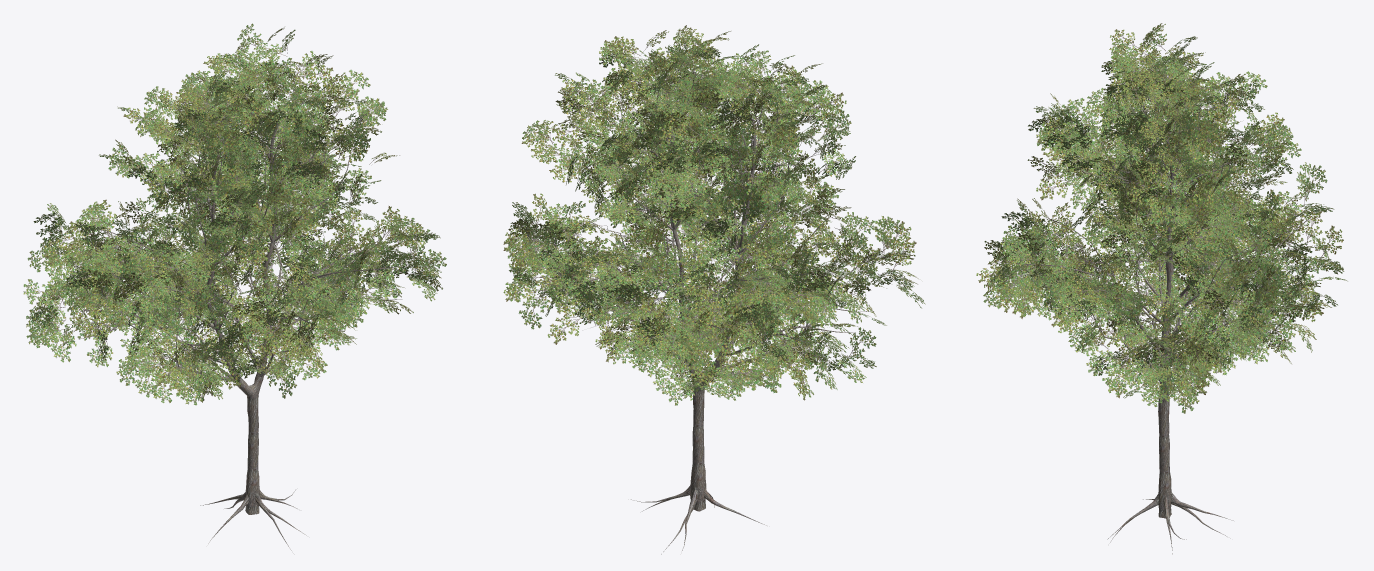
File: Japanese_Maple.fbx
3 views of the same model, side by side, from view 1: azimuth 30°, elevation 25°; view 2: azimuth 150°, elevation 25°; view 3: azimuth 270°, elevation 25° (orthographic). The views are drawn at different scales.
Visible parts, largest first — view 1: Japanese_Maple_Hero_17; view 2: Japanese_Maple_Hero_17; view 3: Japanese_Maple_Hero_17.
Part boxes in pixels (left/top/right/bottom): Japanese_Maple_Hero_17: left=23, top=23, right=446, bottom=550; Japanese_Maple_Hero_17: left=503, top=25, right=925, bottom=554; Japanese_Maple_Hero_17: left=976, top=23, right=1347, bottom=554.
Size of the model in its own units: 1.83 by 2.18 by 1.57.
Materials: 4 (4 with a texture image).
